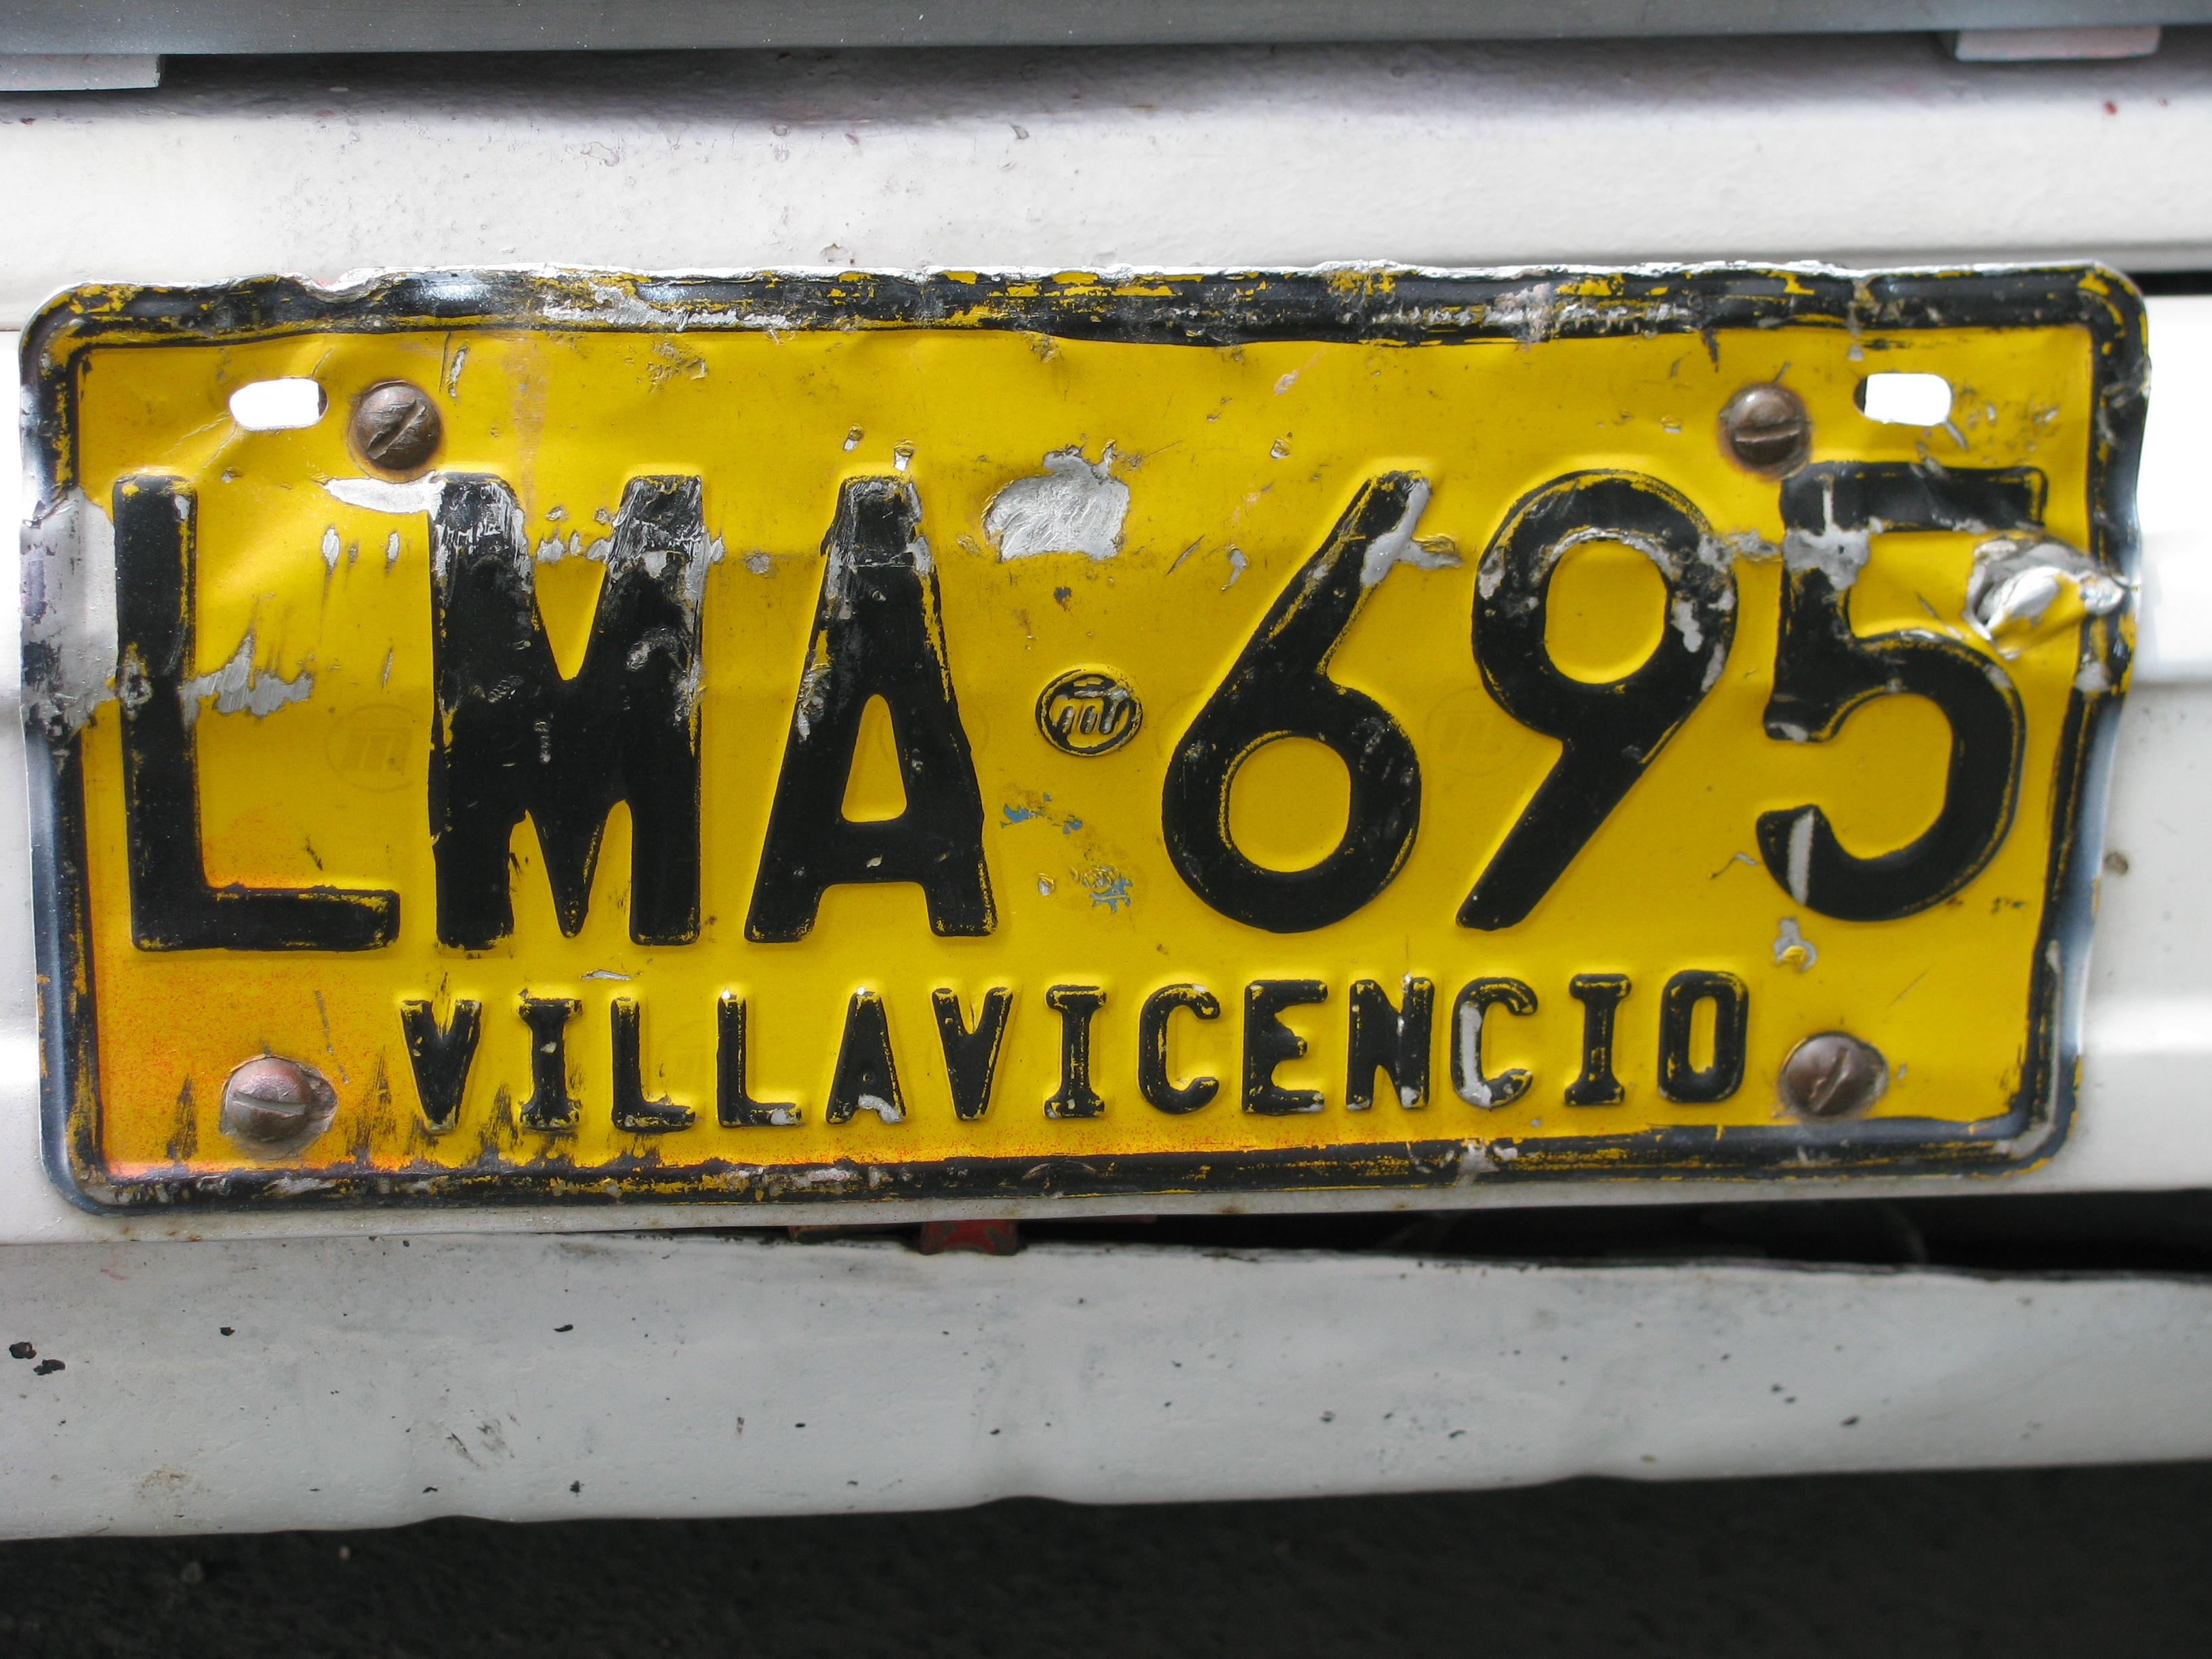placas: (12, 241, 2170, 1224)
